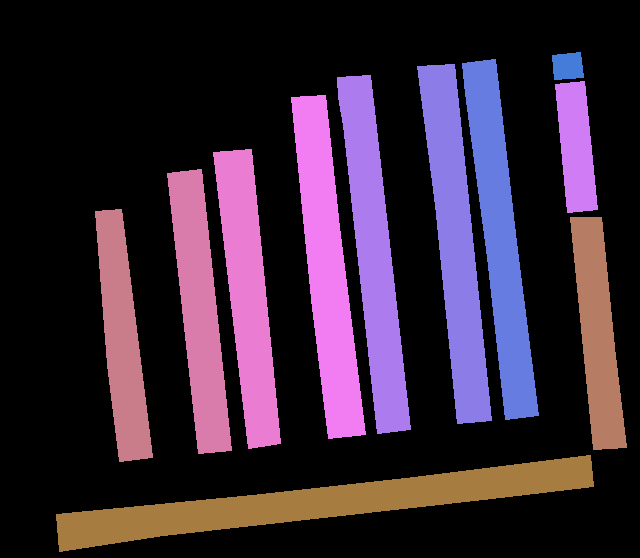parkingspot: (56, 455, 593, 551), (462, 59, 538, 419), (417, 64, 491, 423), (337, 75, 410, 433), (291, 95, 365, 438), (213, 149, 280, 448), (167, 169, 231, 453), (95, 209, 152, 461), (570, 217, 626, 449), (555, 81, 597, 212), (552, 52, 583, 79)
